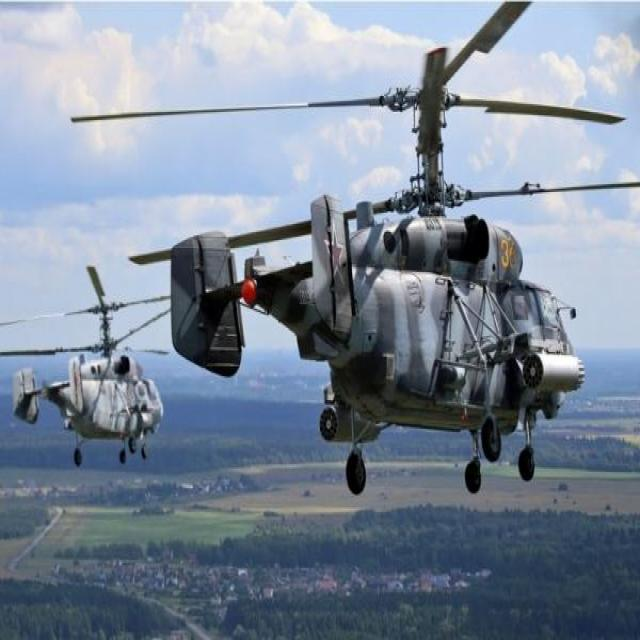MIL_HELO: (56, 14, 640, 499), (0, 269, 188, 474)
